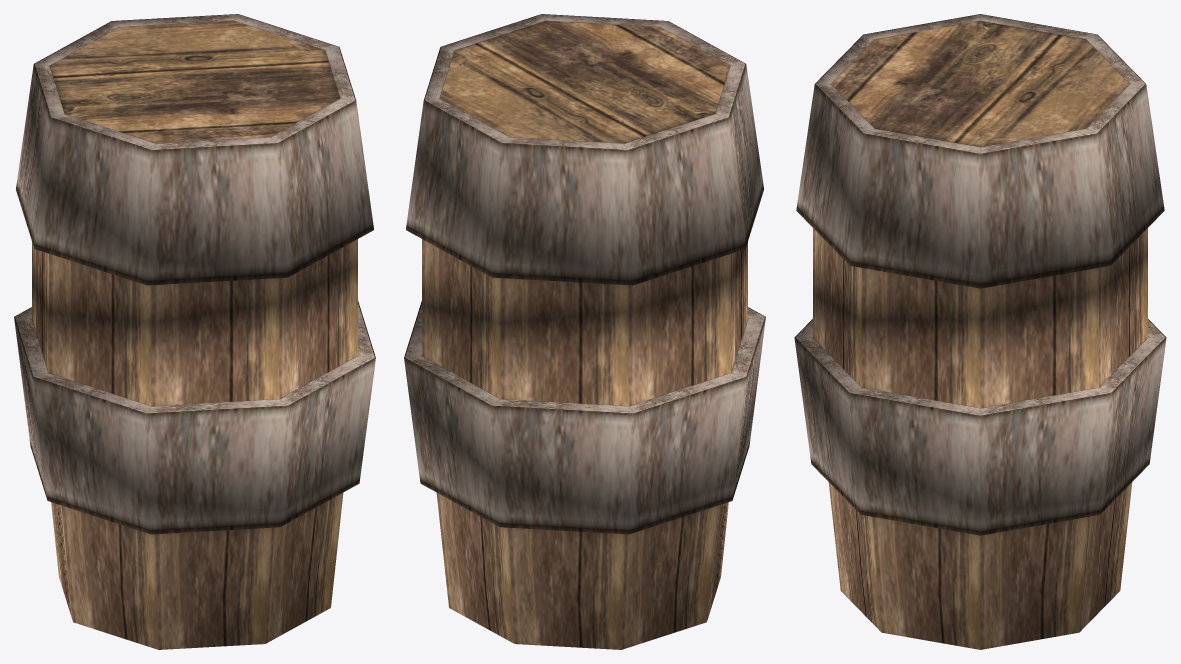
The model's file is Barrel.obj.
3 renders of one model, left to right at view 1: azimuth 30°, elevation 25°; view 2: azimuth 150°, elevation 25°; view 3: azimuth 270°, elevation 25°, orthographic.
Parts seen in each view (by area): view 1: Circle.001; view 2: Circle.001; view 3: Circle.001.
Boxes of the visible parts, x1,y1,x2,y2 form: Circle.001: (14,14,375,649); Circle.001: (404,14,765,649); Circle.001: (794,14,1166,649).
Bounding box in the file's own units: 2.66 × 4 × 2.66.
